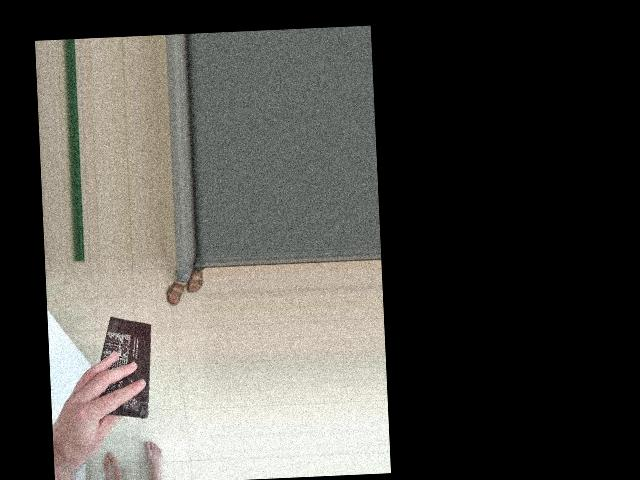chocolate: (94, 312, 158, 425)
